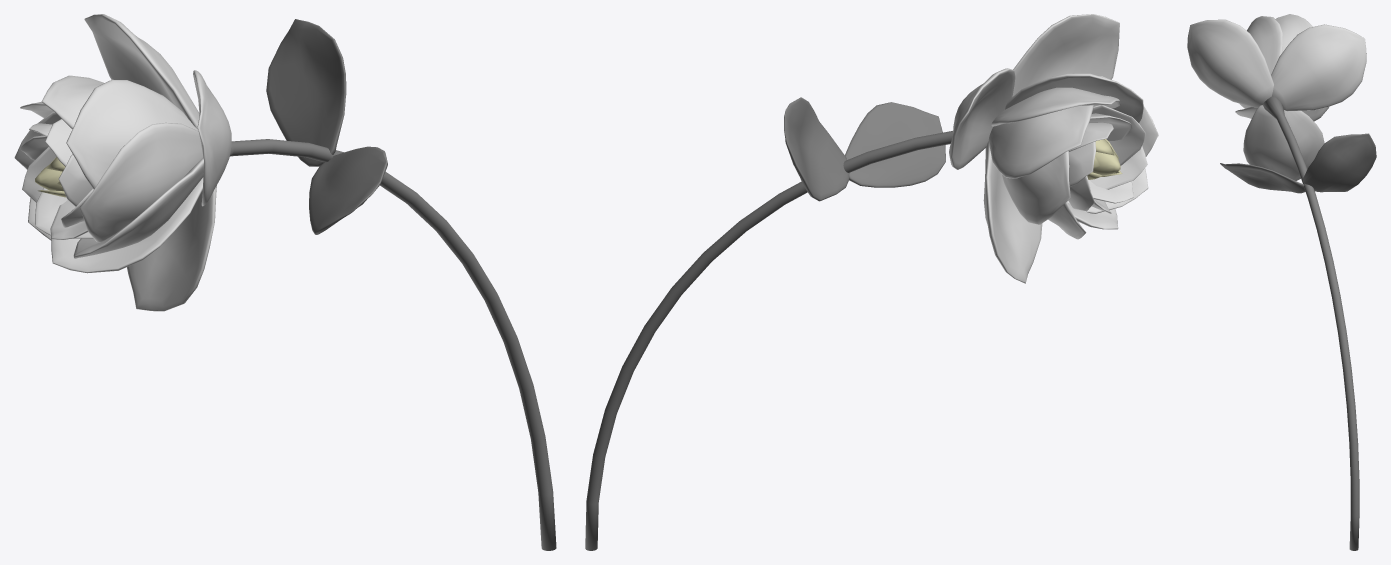
Rendered from Beli_Single_v2.fbx.
3 renders of one model, left to right at view 1: azimuth 30°, elevation 25°; view 2: azimuth 150°, elevation 25°; view 3: azimuth 270°, elevation 25°, orthographic. The views are drawn at different scales.
Visible parts, largest first — view 1: Beli002, BeliLeaves002-1, BeliStem002; view 2: Beli002, BeliLeaves002-1, BeliStem002; view 3: Beli002, BeliStem002, BeliLeaves002-1.
Boxes of the visible parts, x1=… form: Beli002: x1=14, y1=14, x2=231, y2=311; BeliLeaves002-1: x1=266, y1=19, x2=387, y2=234; BeliStem002: x1=229, y1=139, x2=556, y2=550; Beli002: x1=949, y1=14, x2=1158, y2=283; BeliLeaves002-1: x1=784, y1=97, x2=945, y2=201; BeliStem002: x1=585, y1=131, x2=952, y2=550; Beli002: x1=1187, y1=14, x2=1366, y2=180; BeliStem002: x1=1263, y1=96, x2=1359, y2=550; BeliLeaves002-1: x1=1220, y1=133, x2=1376, y2=193.
Size of the model in its own units: 8.67 by 9.48 by 4.12.
